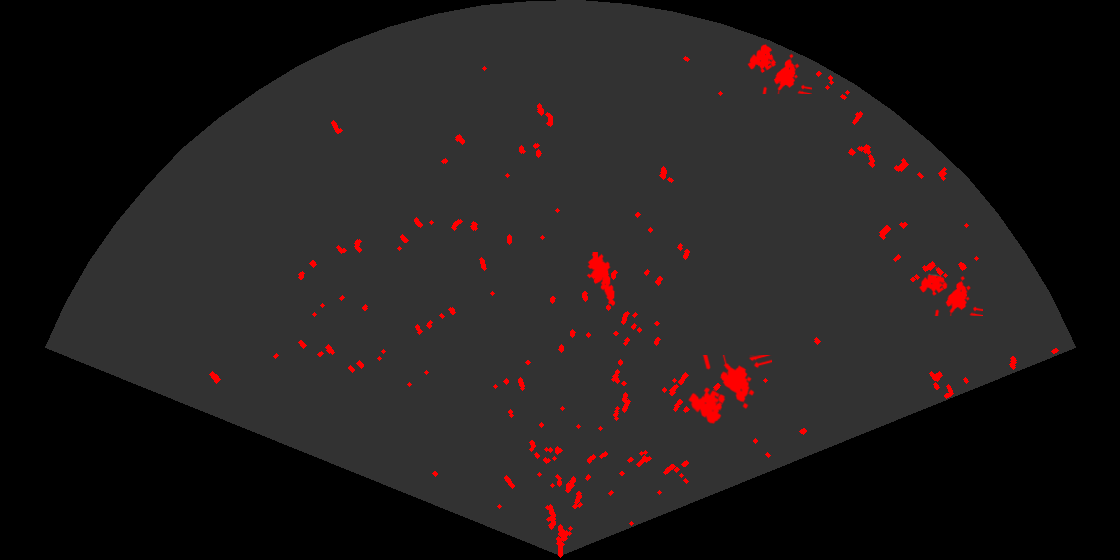cage: (687, 355, 772, 425), (917, 265, 983, 316), (746, 43, 812, 94)
frogman: (585, 252, 617, 307)
